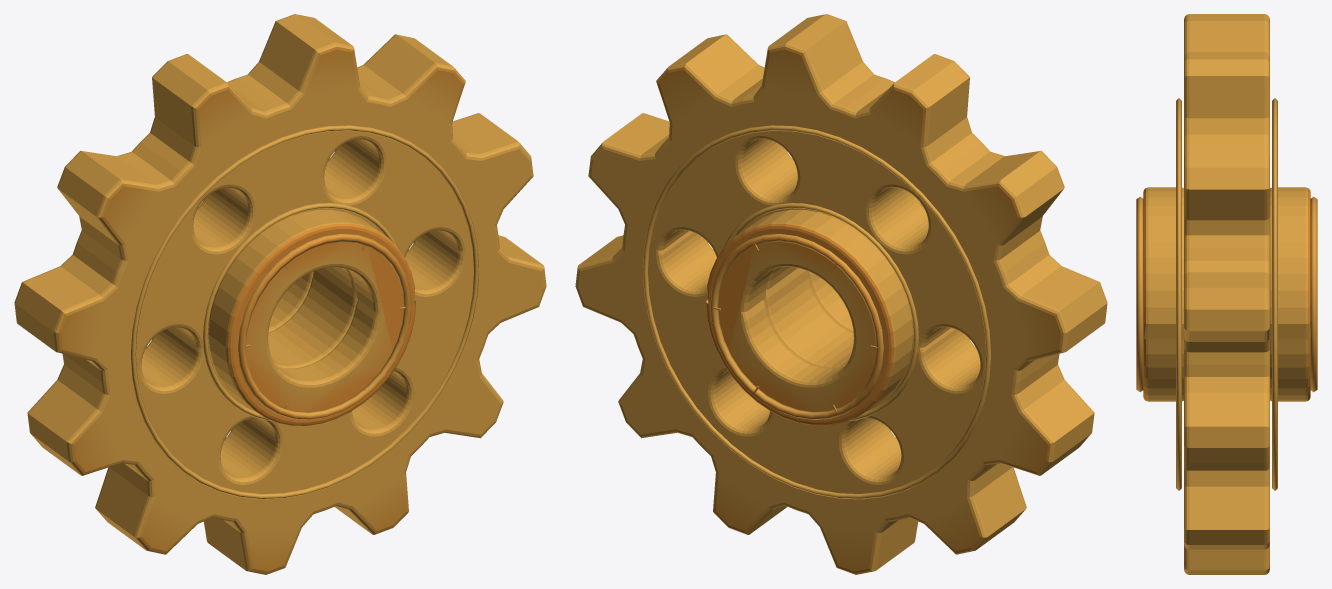
The model's file is workshop-cog-bronze-copper.glb.
3 views of the same model, side by side, from view 1: azimuth 30°, elevation 25°; view 2: azimuth 150°, elevation 25°; view 3: azimuth 270°, elevation 25° (orthographic). The views are drawn at different scales.
Visible parts, largest first — view 1: brass; view 2: brass; view 3: brass.
Part boxes in pixels (box(x1,y1,x2,y2)): brass: box(14, 14, 546, 574); brass: box(575, 14, 1107, 574); brass: box(1136, 14, 1317, 574).
Bounding box in the file's own units: 0.2724 × 0.2724 × 0.0888.
